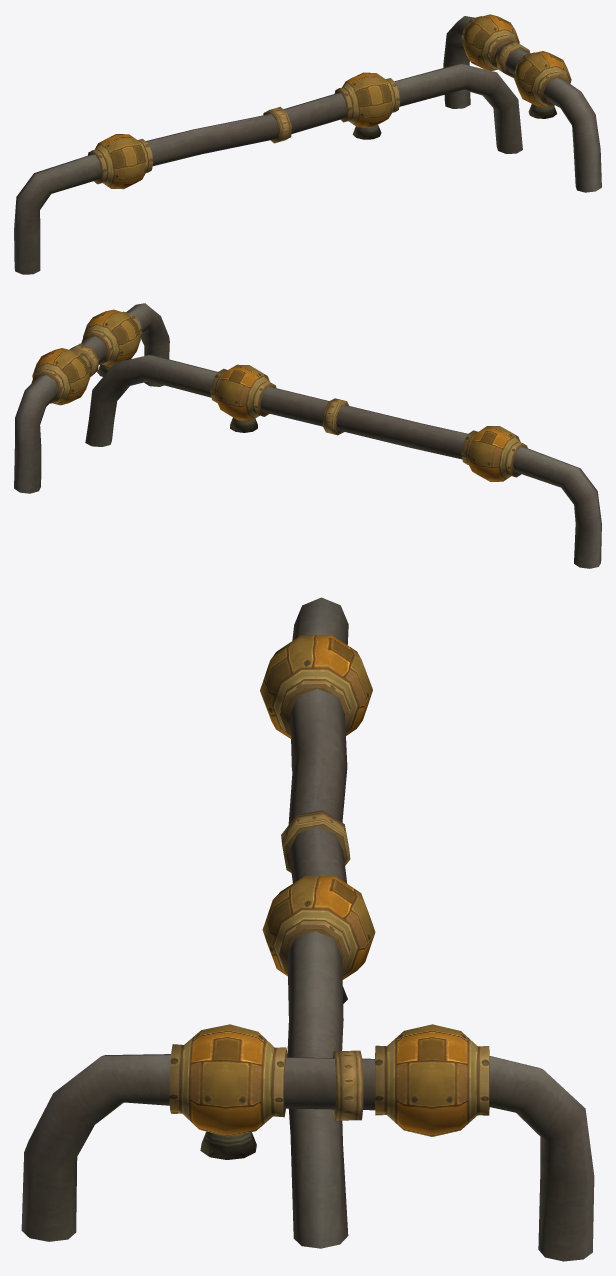
3 views of the same model, one above another, from view 1: azimuth 30°, elevation 25°; view 2: azimuth 150°, elevation 25°; view 3: azimuth 270°, elevation 25° (orthographic). The views are drawn at different scales.
Parts seen in each view (by area): view 1: FC_04; view 2: FC_04; view 3: FC_04.
Boxes of the visible parts, x1,y1,x2,y2 form: FC_04: (14,14,601,274); FC_04: (14,303,601,568); FC_04: (21,597,594,1261).
Size of the model in its own units: 1127 by 225 by 528.
